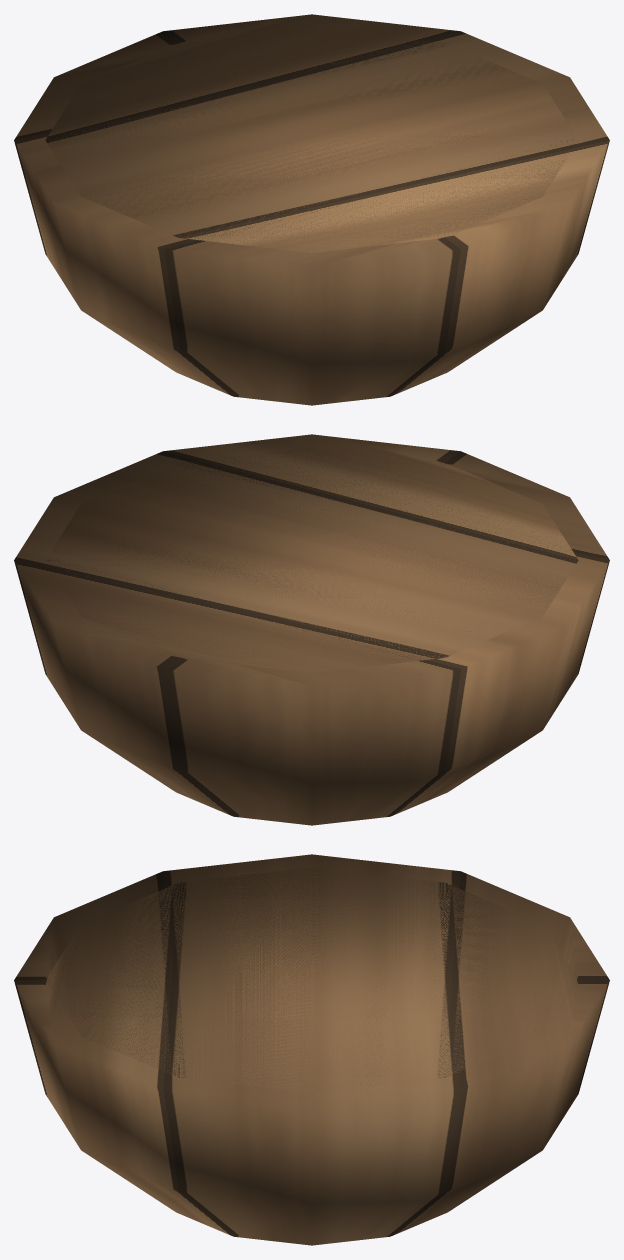
Rendered from Bowl_Wood_1.gltf.
3 renders of one model, top to bottom at view 1: azimuth 30°, elevation 25°; view 2: azimuth 150°, elevation 25°; view 3: azimuth 270°, elevation 25°, orthographic.
Visible parts, largest first — view 1: Bowl_Wood_1; view 2: Bowl_Wood_1; view 3: Bowl_Wood_1.
Part boxes in pixels (left/top/right/bottom): Bowl_Wood_1: left=14, top=14, right=609, bottom=405; Bowl_Wood_1: left=14, top=434, right=609, bottom=825; Bowl_Wood_1: left=14, top=854, right=609, bottom=1245.
Size of the model in its own units: 0.19 by 0.07 by 0.19.
1 material, 1 textured.
